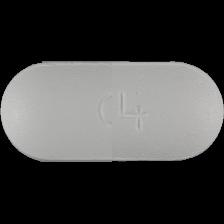65862-077: (0, 0, 224, 224)
